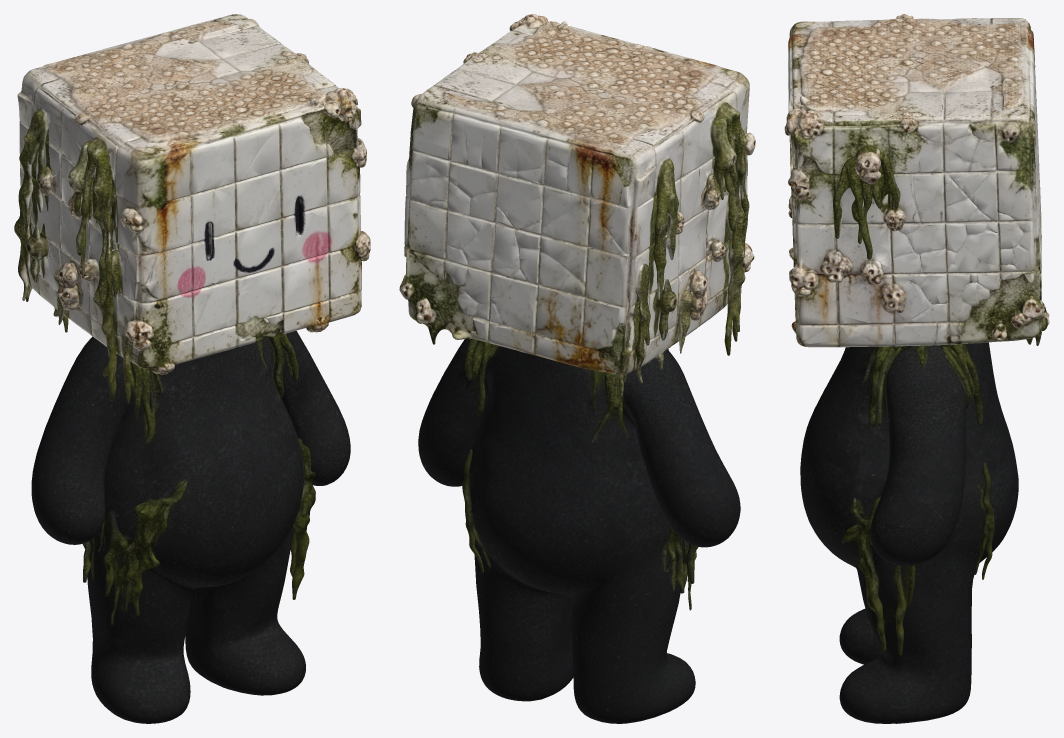
File: cubo_calmo.glb
3 views of the same model, side by side, from view 1: azimuth 30°, elevation 25°; view 2: azimuth 150°, elevation 25°; view 3: azimuth 270°, elevation 25° (orthographic).
Visible parts, largest first — view 1: cubo_calmo.001; view 2: cubo_calmo.001; view 3: cubo_calmo.001.
Boxes of the visible parts, x1,y1,x2,y2 form: cubo_calmo.001: (14, 14, 370, 723); cubo_calmo.001: (399, 14, 755, 723); cubo_calmo.001: (784, 14, 1049, 723).
Size of the model in its own units: 0.6248 by 1.2 by 0.4637.
Materials: 1 (1 with a texture image).
